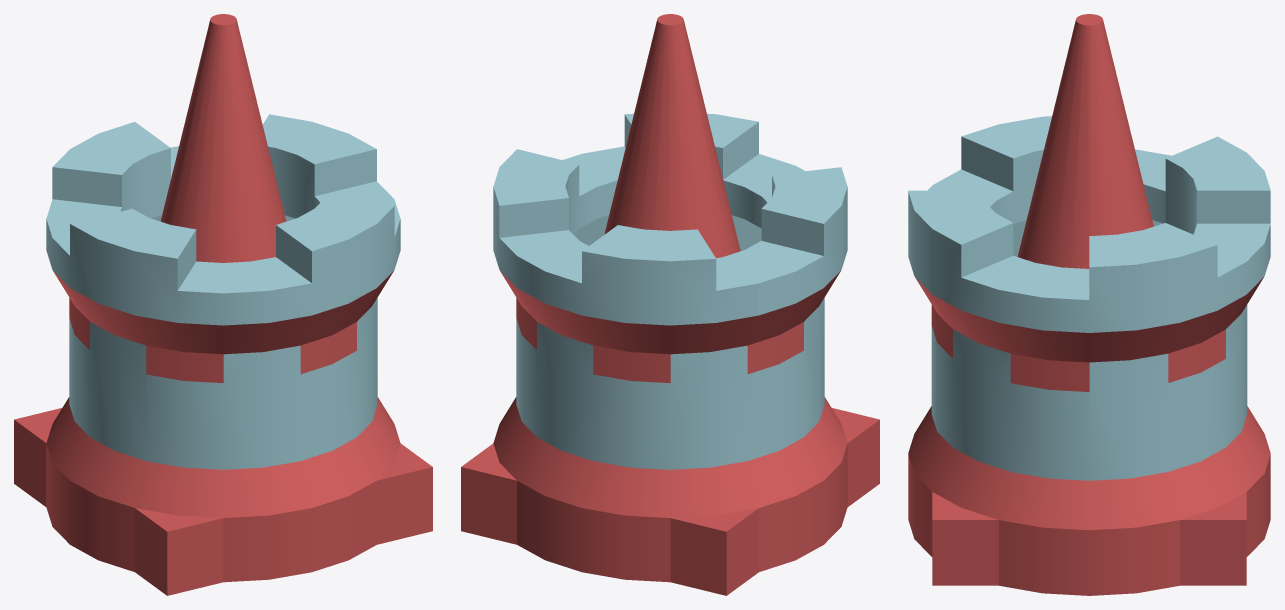
The model's file is towerRound_sampleB.fbx.
3 renders of one model, left to right at view 1: azimuth 30°, elevation 25°; view 2: azimuth 150°, elevation 25°; view 3: azimuth 270°, elevation 25°, orthographic. The views are drawn at different scales.
Visible parts, largest first — view 1: towerRound_sampleB; view 2: towerRound_sampleB; view 3: towerRound_sampleB.
Boxes of the visible parts, <box> form: towerRound_sampleB: <box>14,14,432,595</box>; towerRound_sampleB: <box>461,14,879,595</box>; towerRound_sampleB: <box>908,14,1270,595</box>.
Bounding box in the file's own units: 10 × 15.2 × 10.
